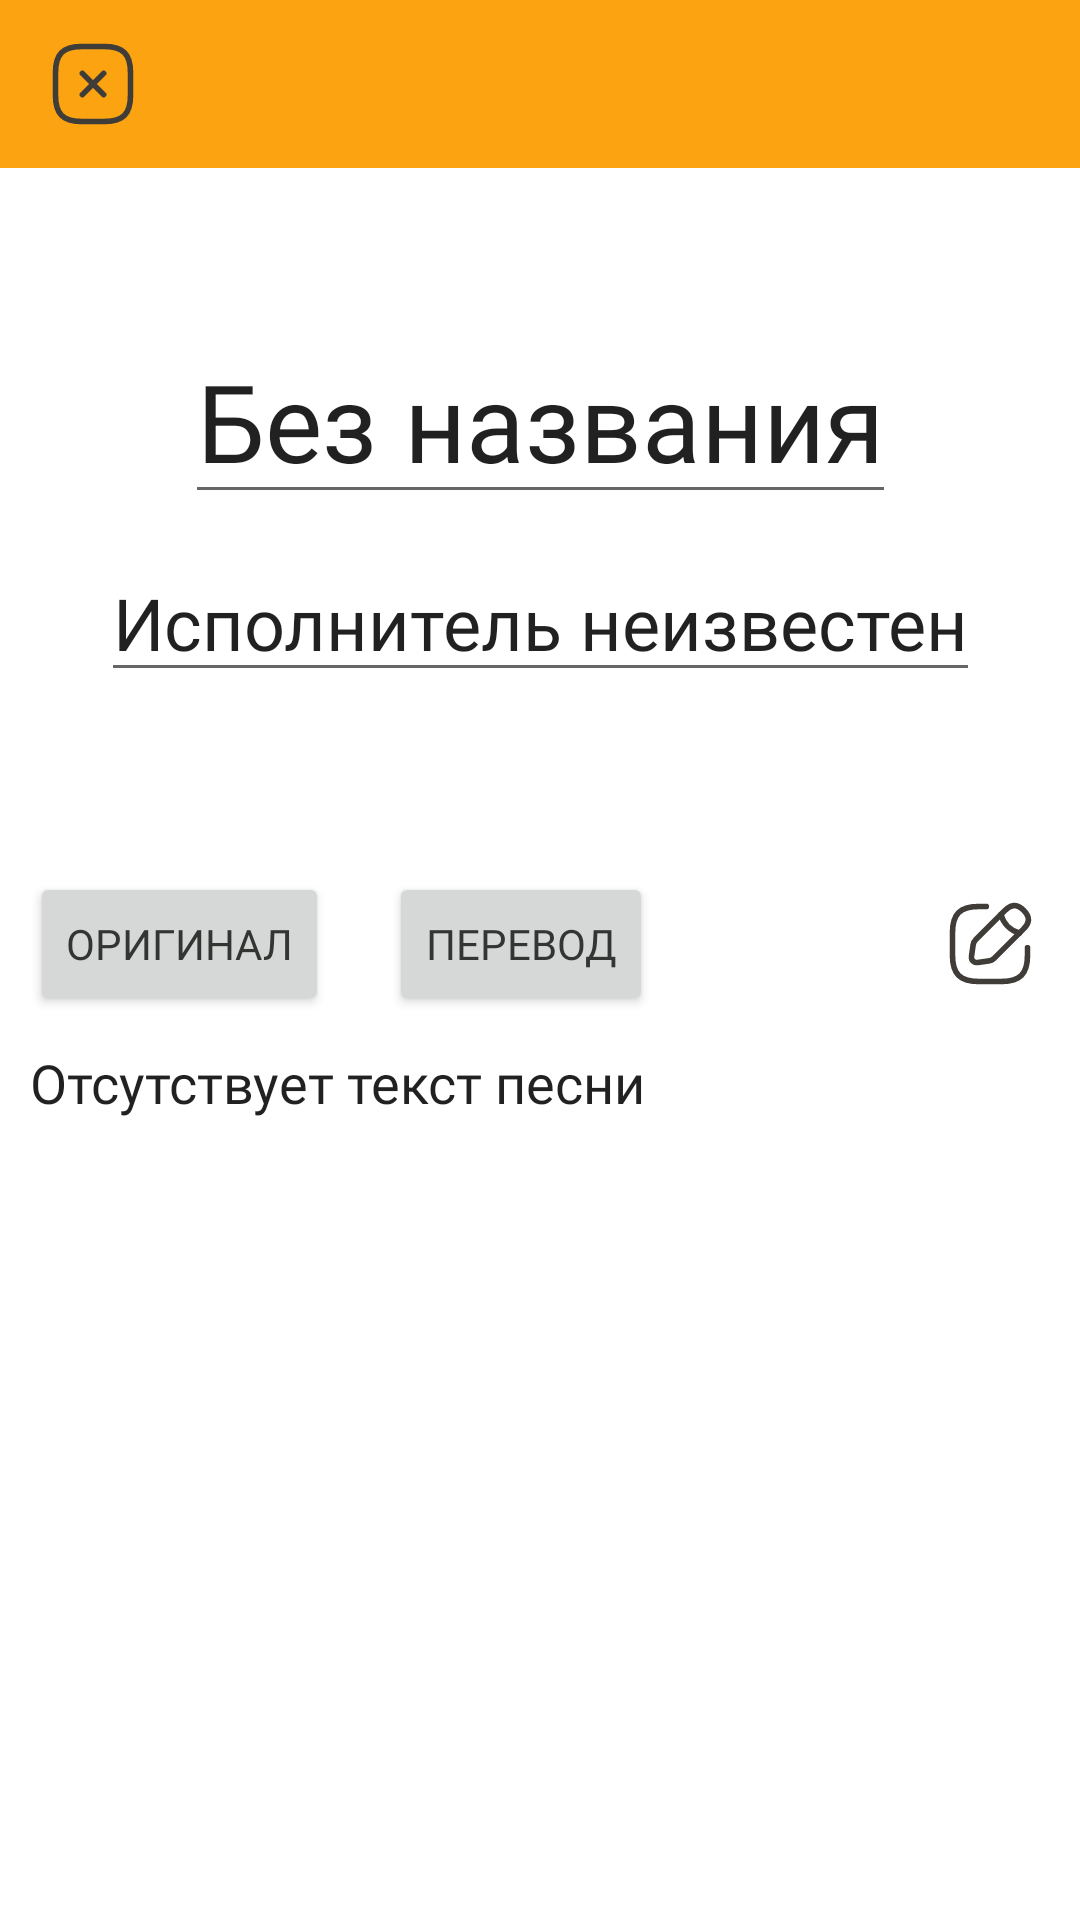

Icons on this 1080x1920 Android screen, each with its box as (x1, y1, x2, y2):
edit: (949, 902, 1032, 985)
Отменить изменения: (52, 43, 134, 125)
